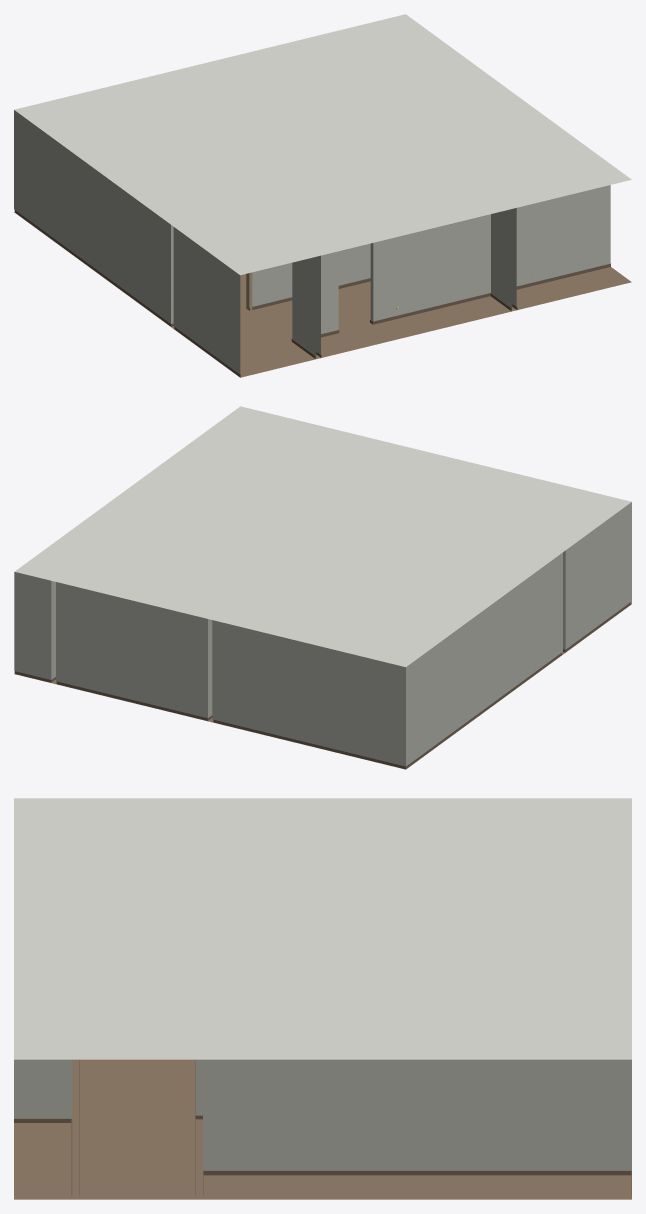
Rendered from chunk_0_0.glb.
3 views of the same model, one above another, from view 1: azimuth 30°, elevation 25°; view 2: azimuth 150°, elevation 25°; view 3: azimuth 270°, elevation 25° (orthographic). The views are drawn at different scales.
Visible parts, largest first — view 1: chunk_0_0; view 2: chunk_0_0; view 3: chunk_0_0.
Part boxes in pixels (x1,y1,x2,y2): chunk_0_0: (14,14,631,377); chunk_0_0: (14,406,631,769); chunk_0_0: (14,798,631,1199).
Bounding box in the file's own units: 12.01 × 3 × 12.
